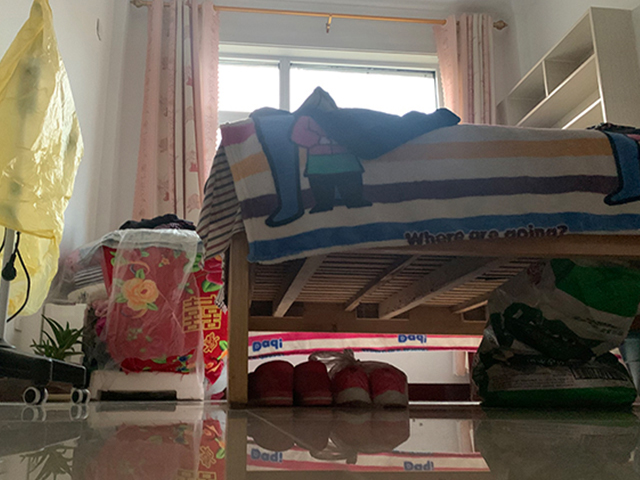bed: (193, 84, 640, 408)
curtain: (131, 1, 218, 221), (429, 12, 495, 124)
